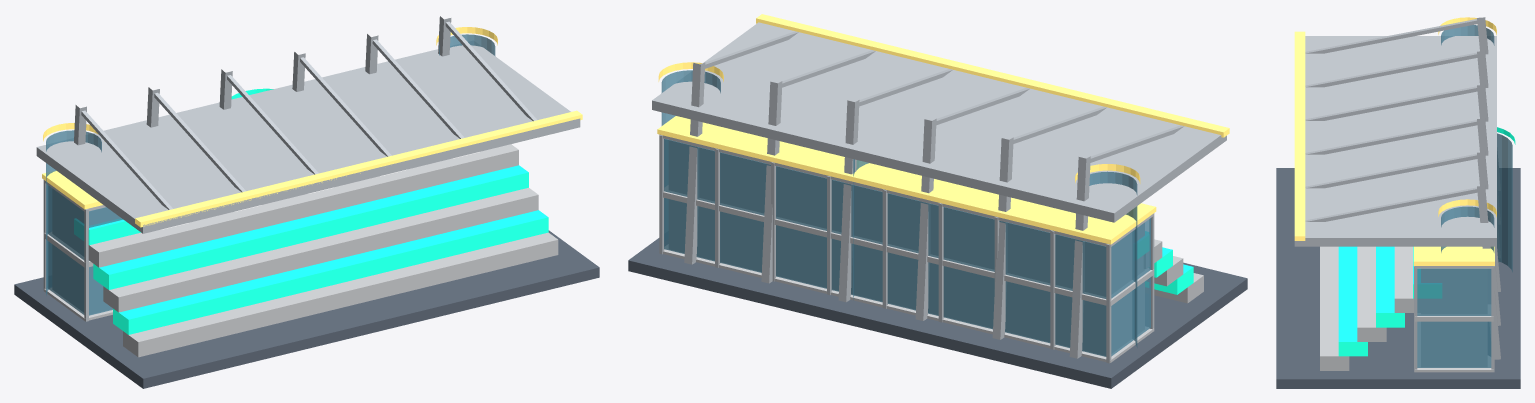
The model's file is north_stand_expansion.master.glb.
The picture shows the model from 3 angles, left to right: view 1: azimuth 30°, elevation 25°; view 2: azimuth 150°, elevation 25°; view 3: azimuth 270°, elevation 25°; orthographic projection. The views are drawn at different scales.
Parts seen in each view (by area): view 1: north_stand_expansion_master; view 2: north_stand_expansion_master; view 3: north_stand_expansion_master.
Part boxes in pixels (left/top/right/bottom): north_stand_expansion_master: left=14, top=16, right=599, bottom=388; north_stand_expansion_master: left=628, top=14, right=1247, bottom=388; north_stand_expansion_master: left=1276, top=17, right=1520, bottom=388.
Size of the model in its own units: 3.76 by 1.52 by 1.84.
